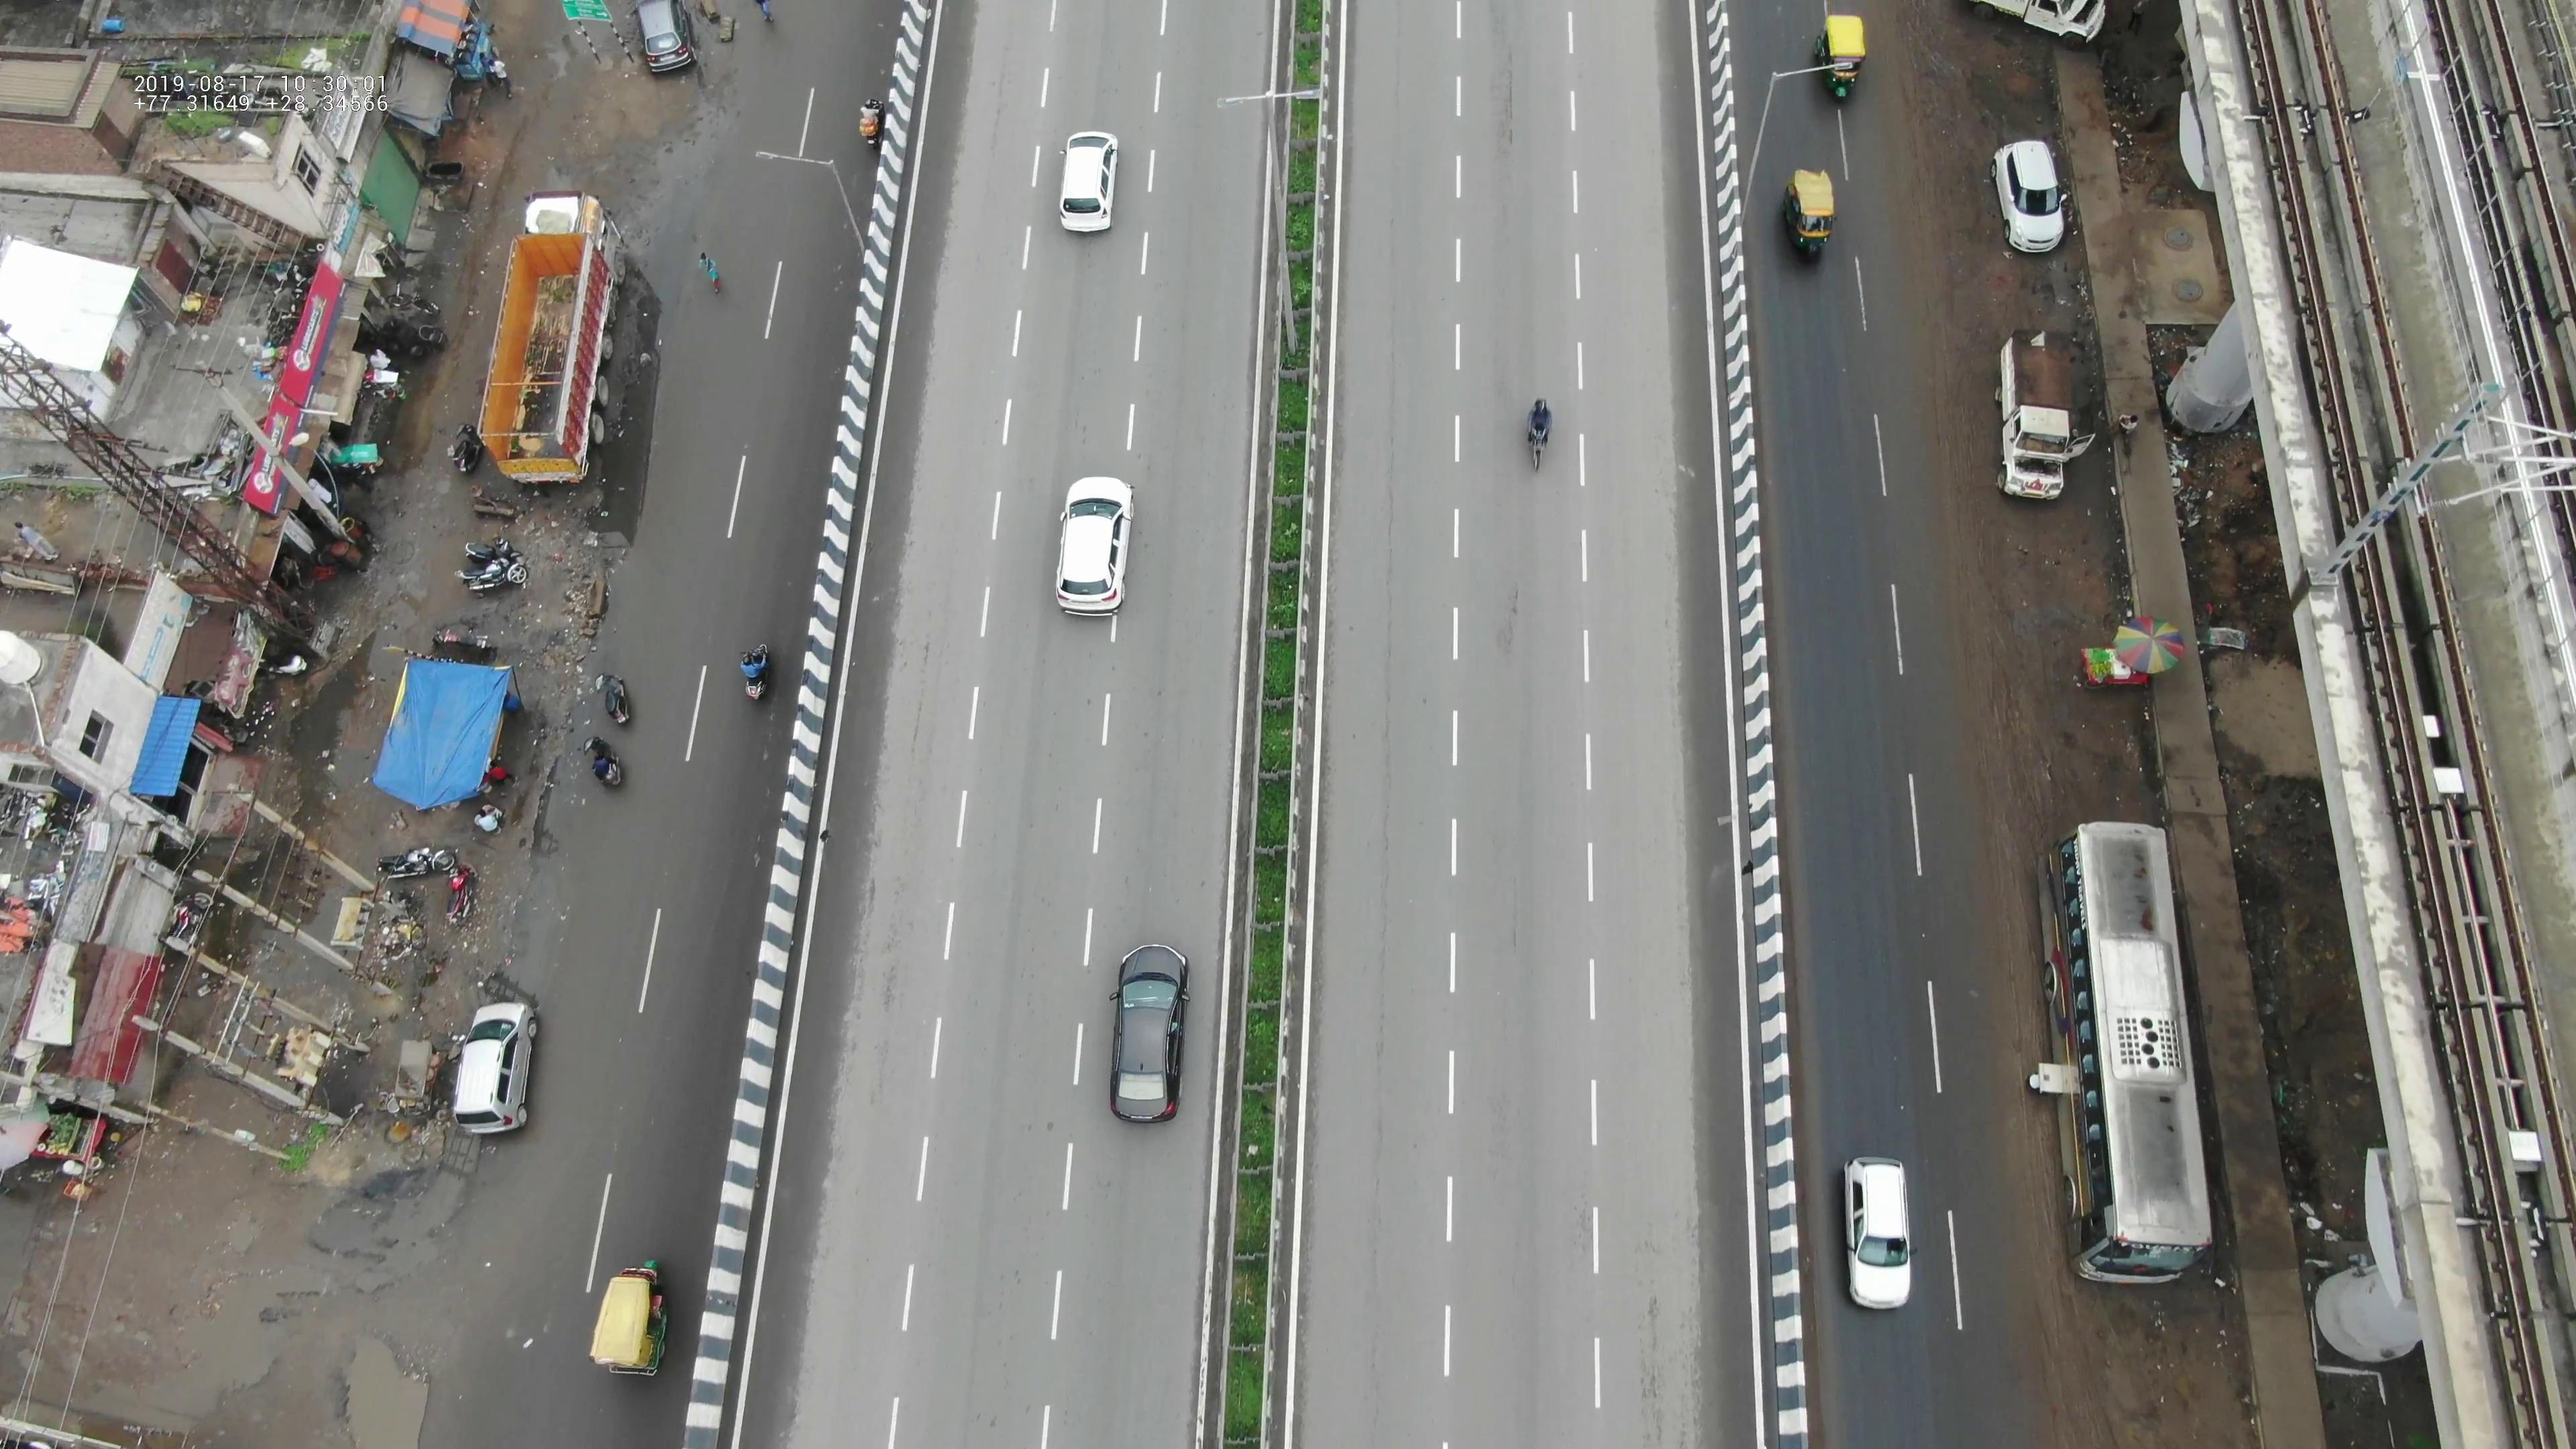Muddy_road: (1983, 541, 2118, 819), (2045, 1306, 2236, 1449)
Potholes: (306, 1316, 485, 1430)
Ravelling: (1468, 2, 1546, 196), (1488, 536, 1537, 697)
Waterlogging: (566, 340, 681, 630), (494, 777, 584, 968)
